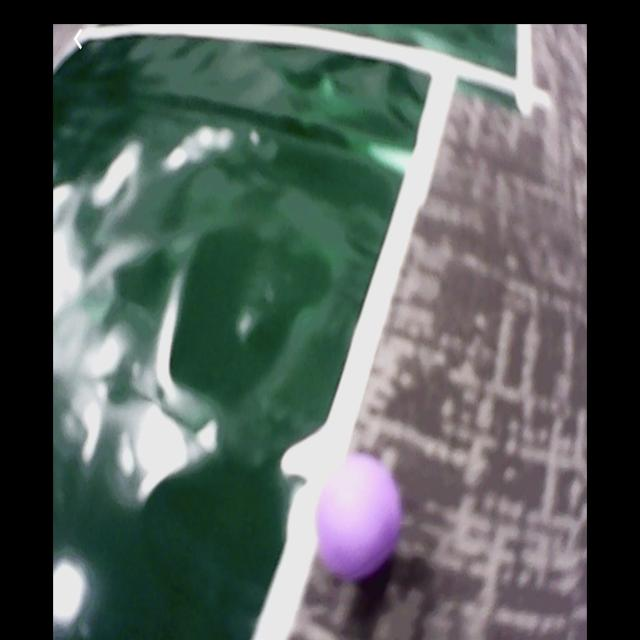ball: (317, 454, 403, 581)
